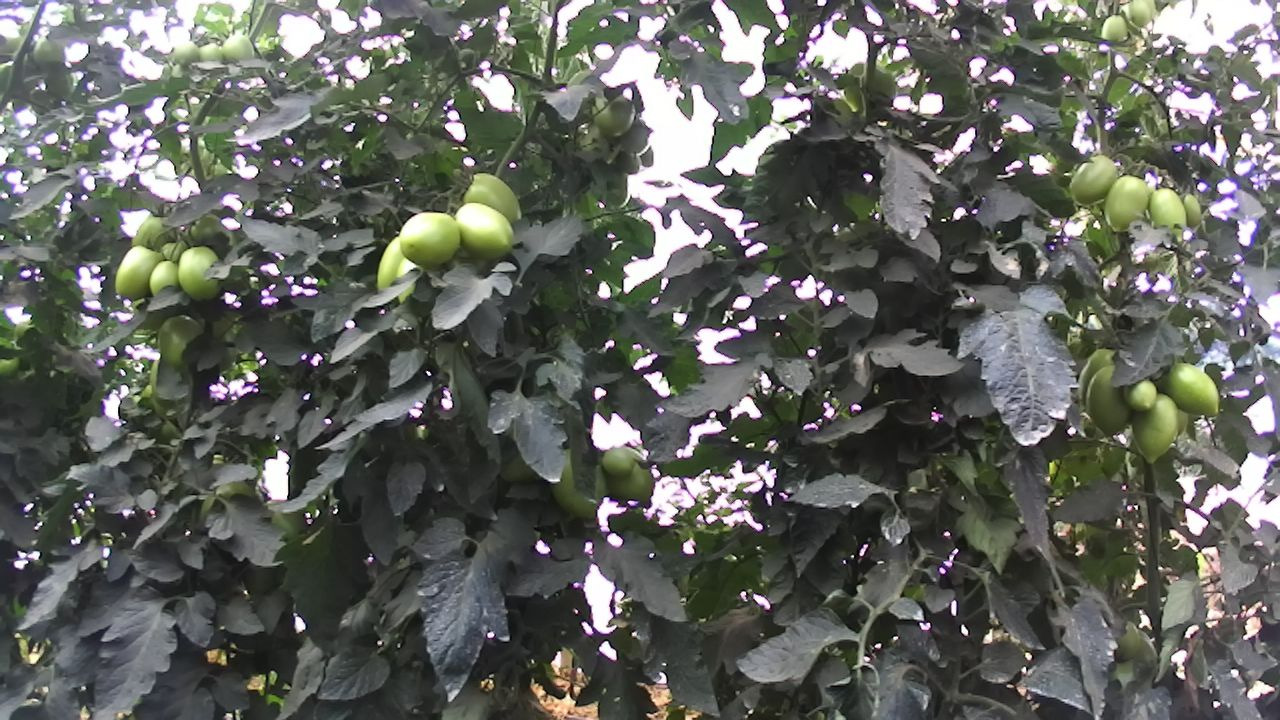tomato: (1080, 360, 1136, 440), (1128, 389, 1182, 467), (398, 209, 464, 270), (601, 441, 659, 510), (452, 201, 516, 261), (458, 168, 525, 224), (1161, 358, 1224, 417), (153, 310, 211, 370), (1101, 172, 1153, 235), (113, 242, 163, 307), (175, 244, 228, 304), (1066, 153, 1119, 209), (1147, 187, 1189, 235), (595, 444, 639, 479), (147, 257, 182, 300), (1119, 376, 1158, 412)
